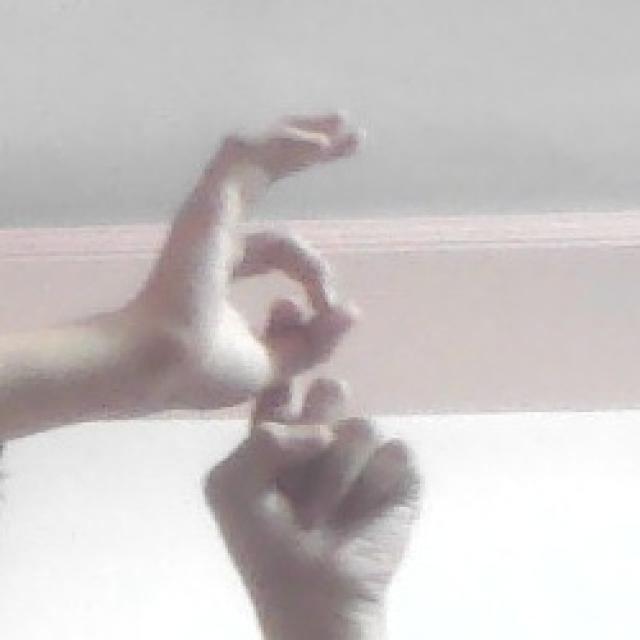Alphabet-Q: (125, 93, 426, 607)
